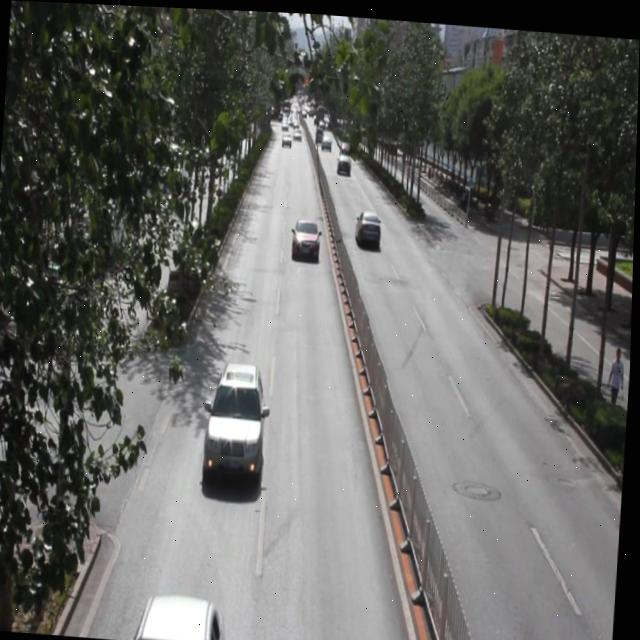car: (205, 357, 268, 481), (131, 589, 233, 640), (292, 211, 322, 257), (355, 205, 382, 244), (335, 149, 353, 171), (337, 134, 353, 155), (321, 130, 333, 149), (280, 129, 292, 146), (292, 123, 304, 139)
truck: (314, 122, 323, 141)
